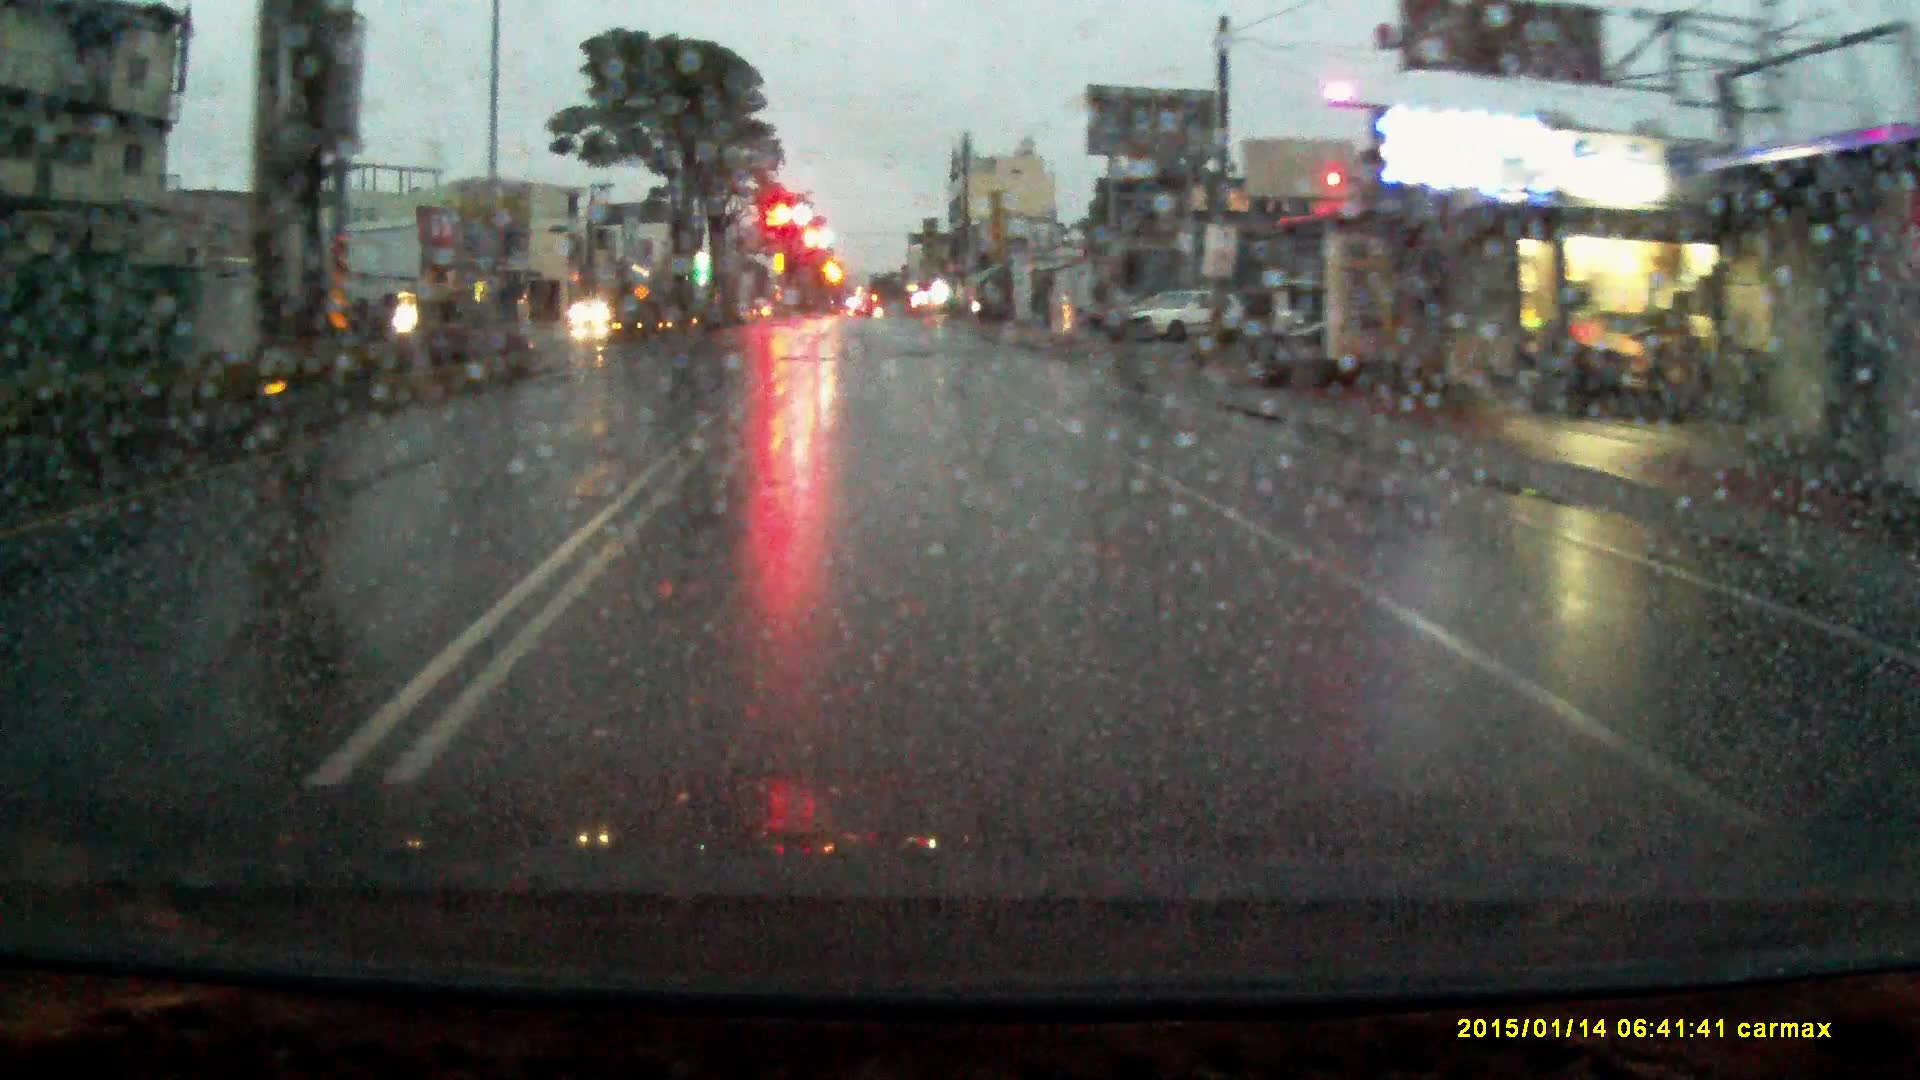vehicle: (1126, 284, 1251, 343), (568, 293, 618, 330)
